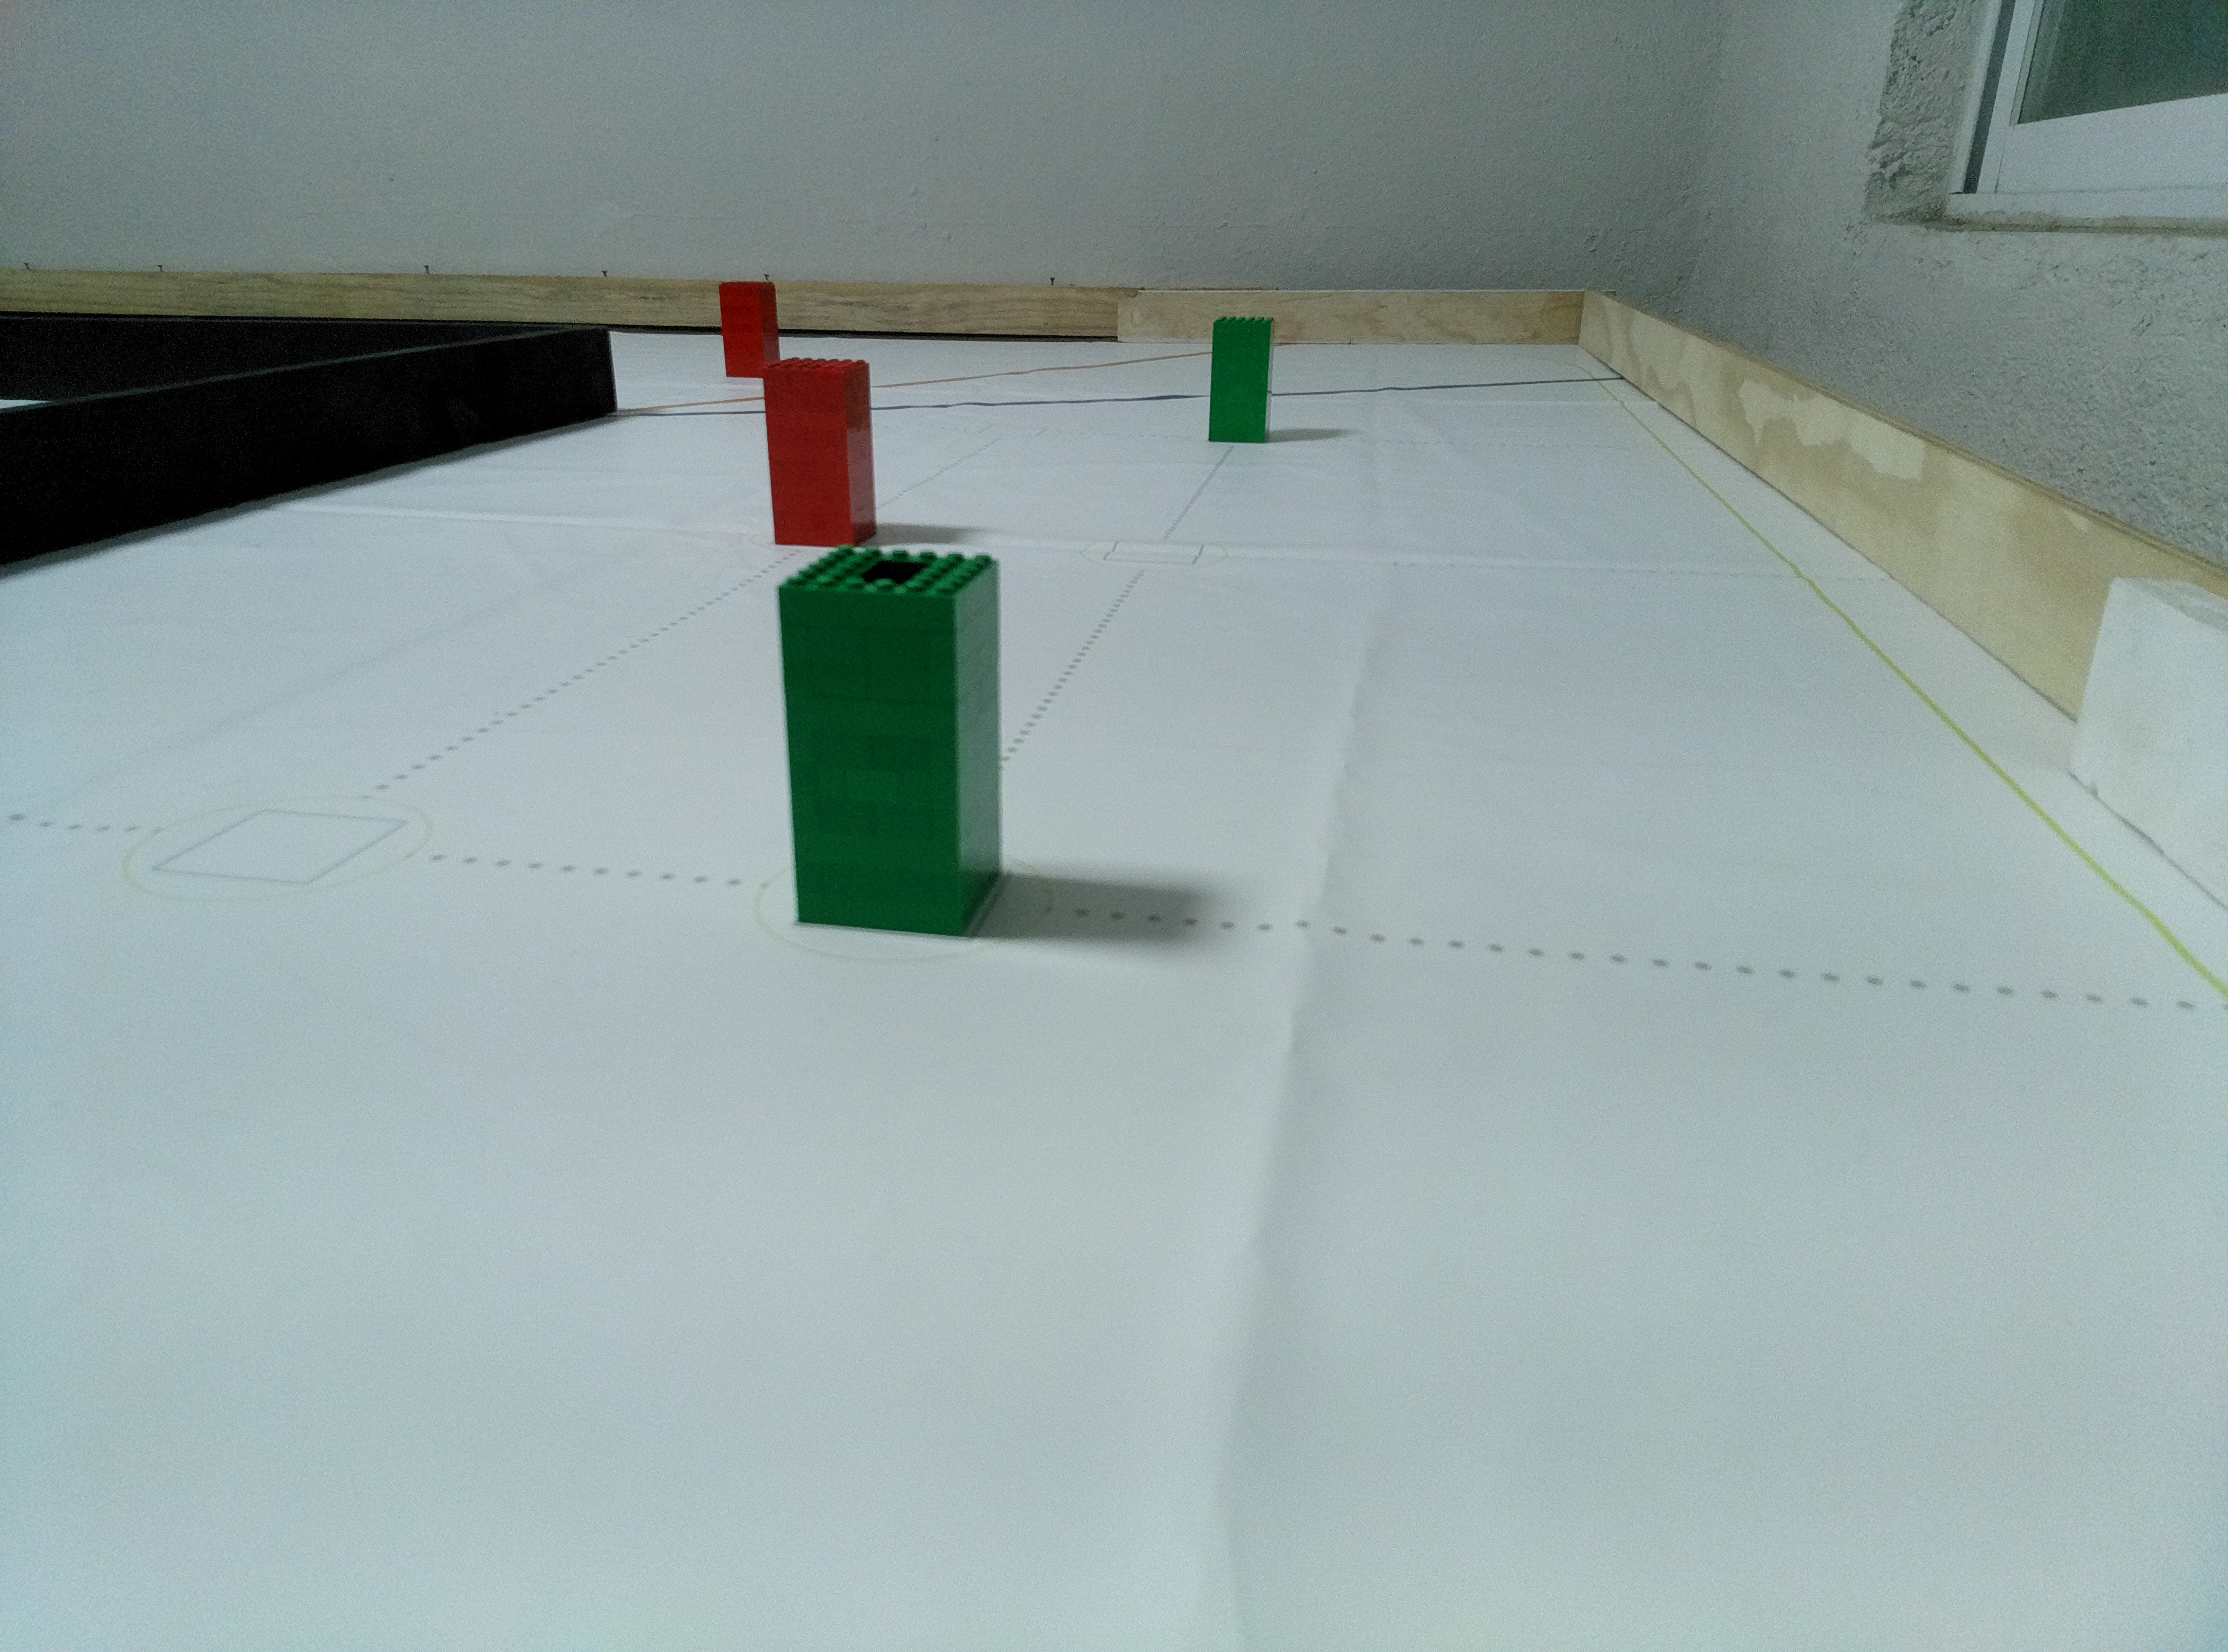greenbox: (770, 543, 1006, 942), (1206, 316, 1275, 444)
redbox: (762, 354, 878, 548), (717, 281, 783, 380)
